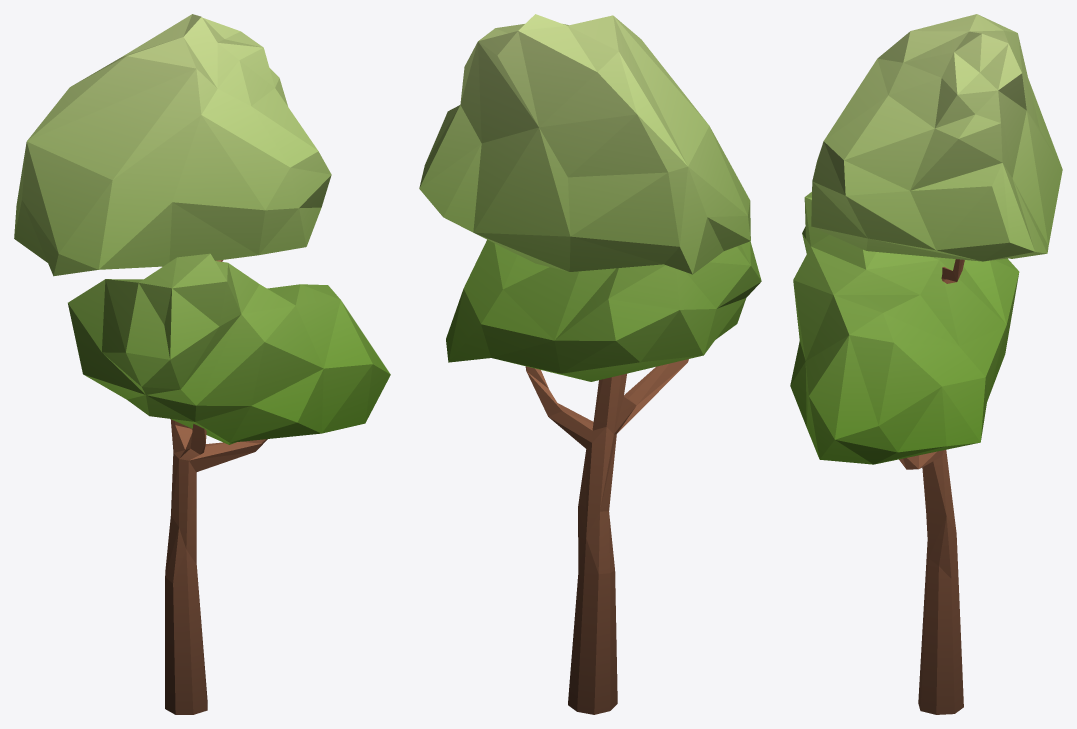
Rendered from tree.glb.
3 views of the same model, side by side, from view 1: azimuth 30°, elevation 25°; view 2: azimuth 150°, elevation 25°; view 3: azimuth 270°, elevation 25° (orthographic). The views are drawn at different scales.
Visible parts, largest first — view 1: tree; view 2: tree; view 3: tree.
Part boxes in pixels (left/top/right/bottom): tree: left=14, top=14, right=390, bottom=714; tree: left=419, top=14, right=761, bottom=714; tree: left=790, top=14, right=1062, bottom=714.
Bounding box in the file's own units: 2.76 × 5.96 × 2.14.
1 material, 1 textured.
